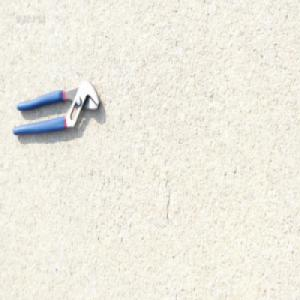Pliers: (12, 77, 103, 136)
